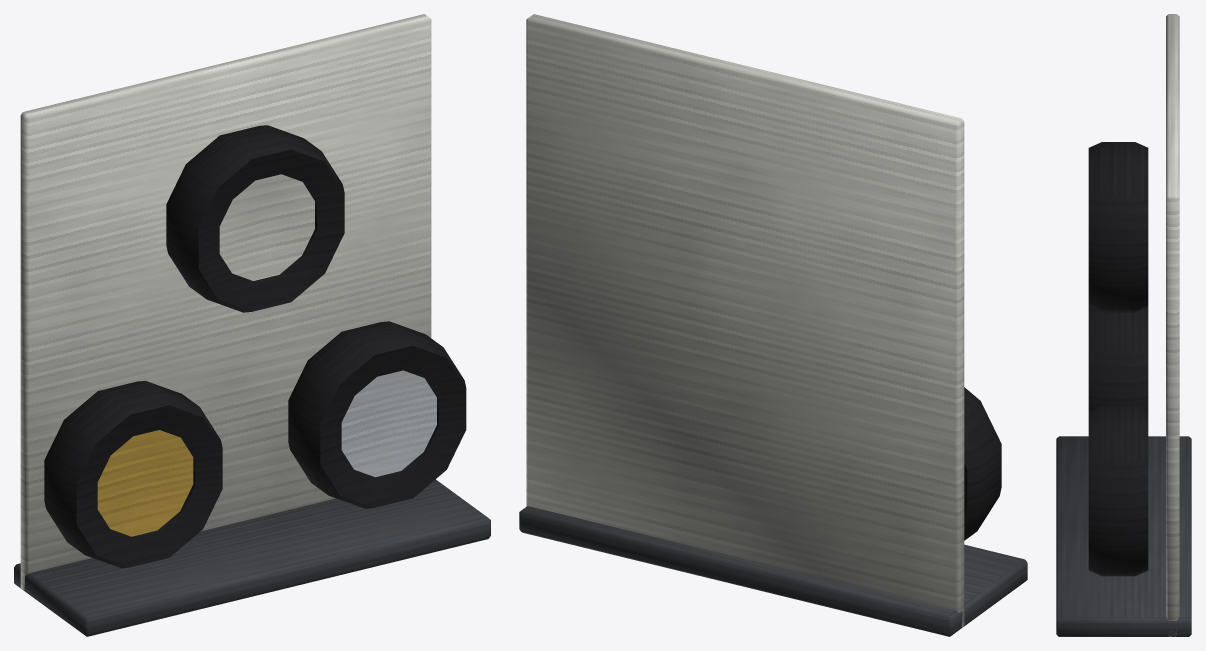
File: expositor_rodas.glb
The picture shows the model from 3 angles, left to right: view 1: azimuth 30°, elevation 25°; view 2: azimuth 150°, elevation 25°; view 3: azimuth 270°, elevation 25°; orthographic projection. The views are drawn at different scales.
Parts seen in each view (by area): view 1: Inteiro; view 2: Inteiro; view 3: Inteiro.
Boxes of the visible parts, left/top/right/bottom form: Inteiro: left=14, top=14, right=490, bottom=636; Inteiro: left=519, top=14, right=1027, bottom=636; Inteiro: left=1056, top=14, right=1191, bottom=636.
Size of the model in its own units: 1.6 by 1.8 by 0.5.
1 material, 1 textured.
